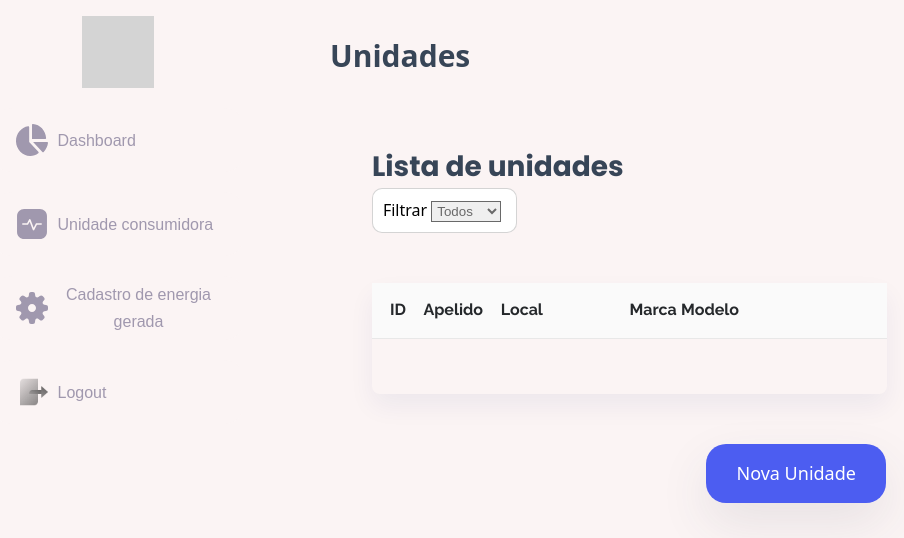
Test: Unidades › ao clicar no botão 'Nova unidade', deve renderizar o cadastro de unidade
Click the button with test id "new-unit". click: click(796, 474)
box: [706, 444, 886, 503]
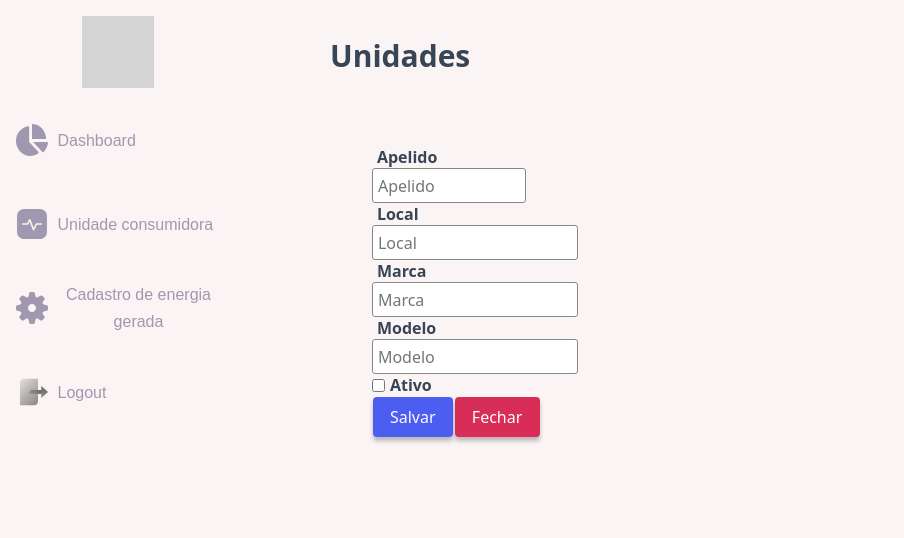
Expected: the form with test id "cadastro-unidades" is shown, [372, 146, 578, 437]
